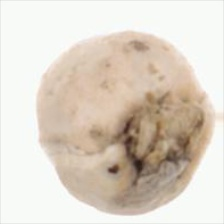L3: (120, 97, 201, 177)
L4: (35, 31, 215, 216)
